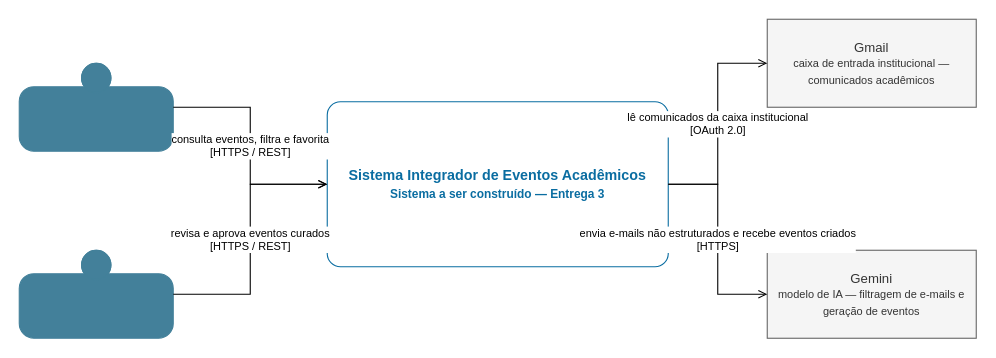
This 996x358 diagram has some shape labels left out. The shapes that lost their labels are listed below. From the top down, each one's centre as x and y in pixels, then its label:
At pixel 95 106: "Aluno consulta eventos, filtra por categoria e favorita".
At pixel 95 293: "Curador / Administrador revisa e aprova e-mails extraídos no painel".
